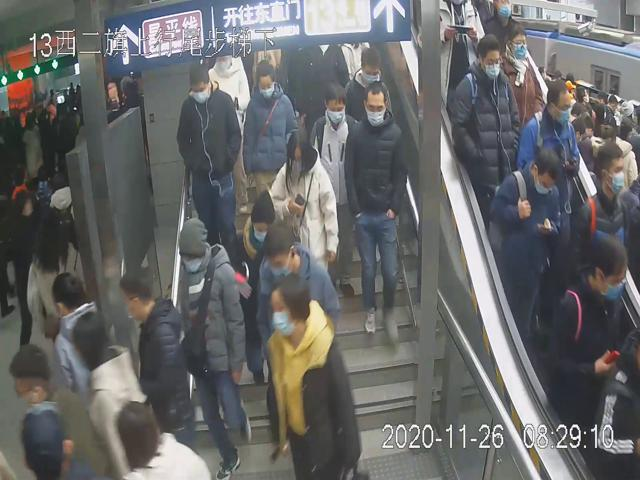person: (264, 269, 368, 480), (173, 211, 253, 480), (344, 81, 408, 344), (488, 142, 565, 334), (173, 58, 242, 269), (256, 225, 343, 390), (452, 32, 521, 212), (268, 129, 342, 284), (224, 187, 291, 338), (239, 59, 299, 220), (306, 83, 358, 246), (341, 44, 395, 129)
